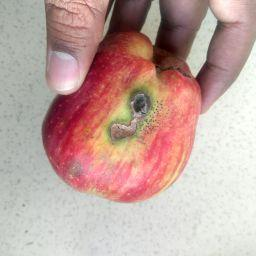apple: (15, 16, 227, 215)
